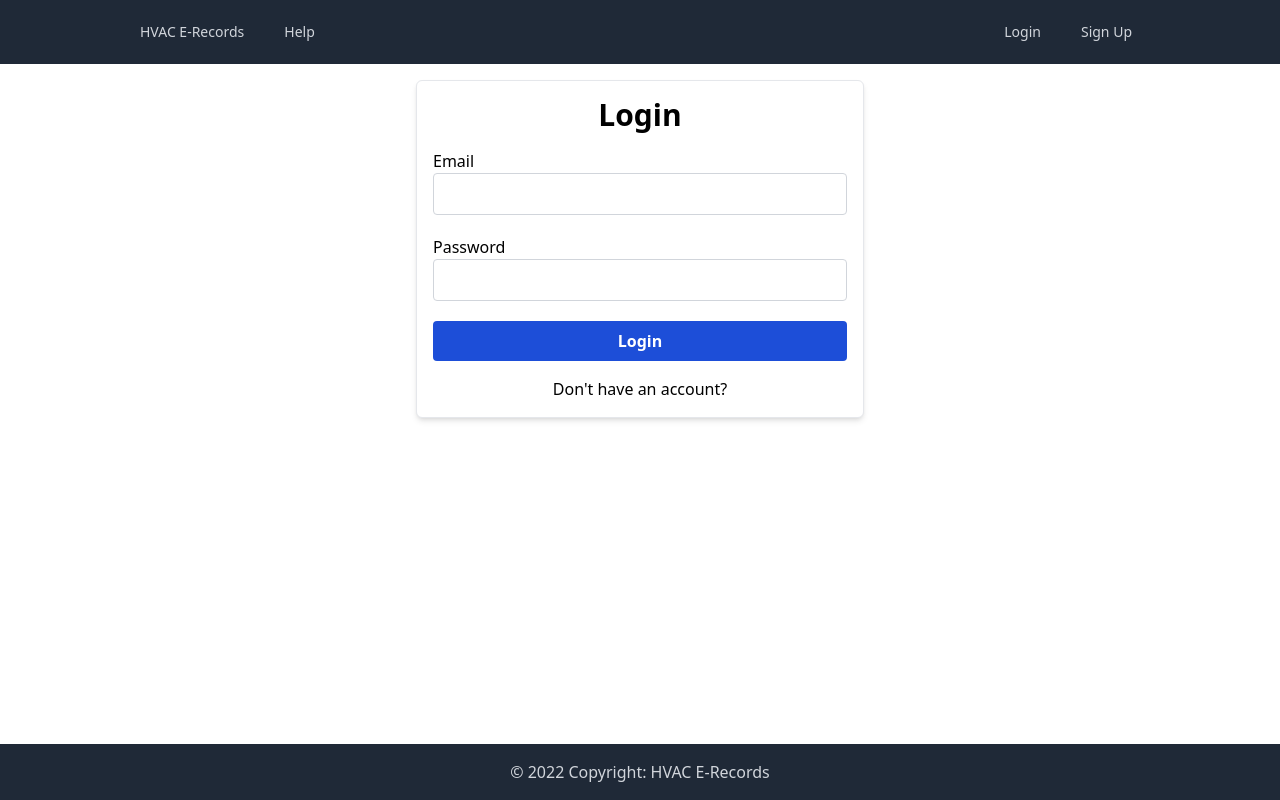
Test case: Task details page › should display the text task details
The width and height of the screenshot is (1280, 800).
In the field with id "email": coordinates (640, 194) [433, 173, 847, 215], type "test@test.com"
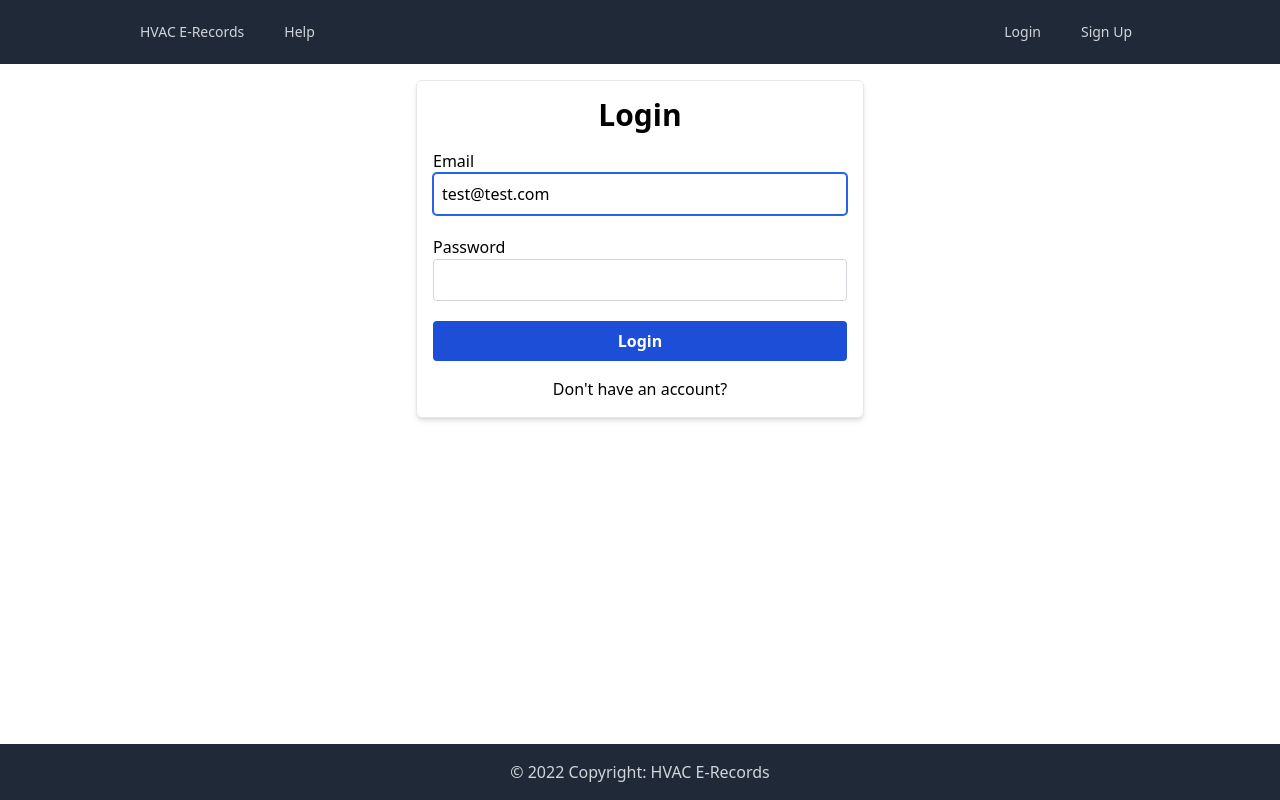
In the password field labelled "Password": coordinates (640, 280) [433, 259, 847, 301], type "Testing123!"
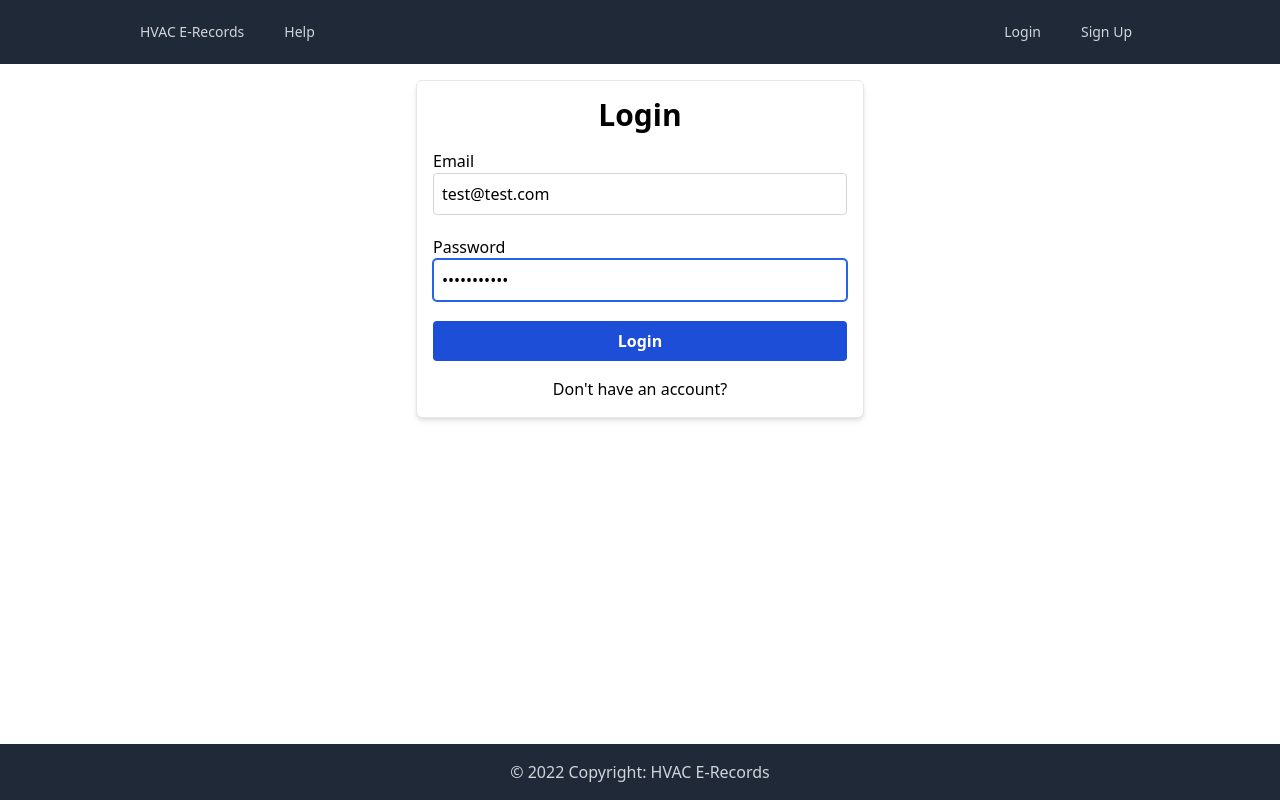
Click the button with id "login-button": coordinates (640, 341) [433, 321, 847, 361]
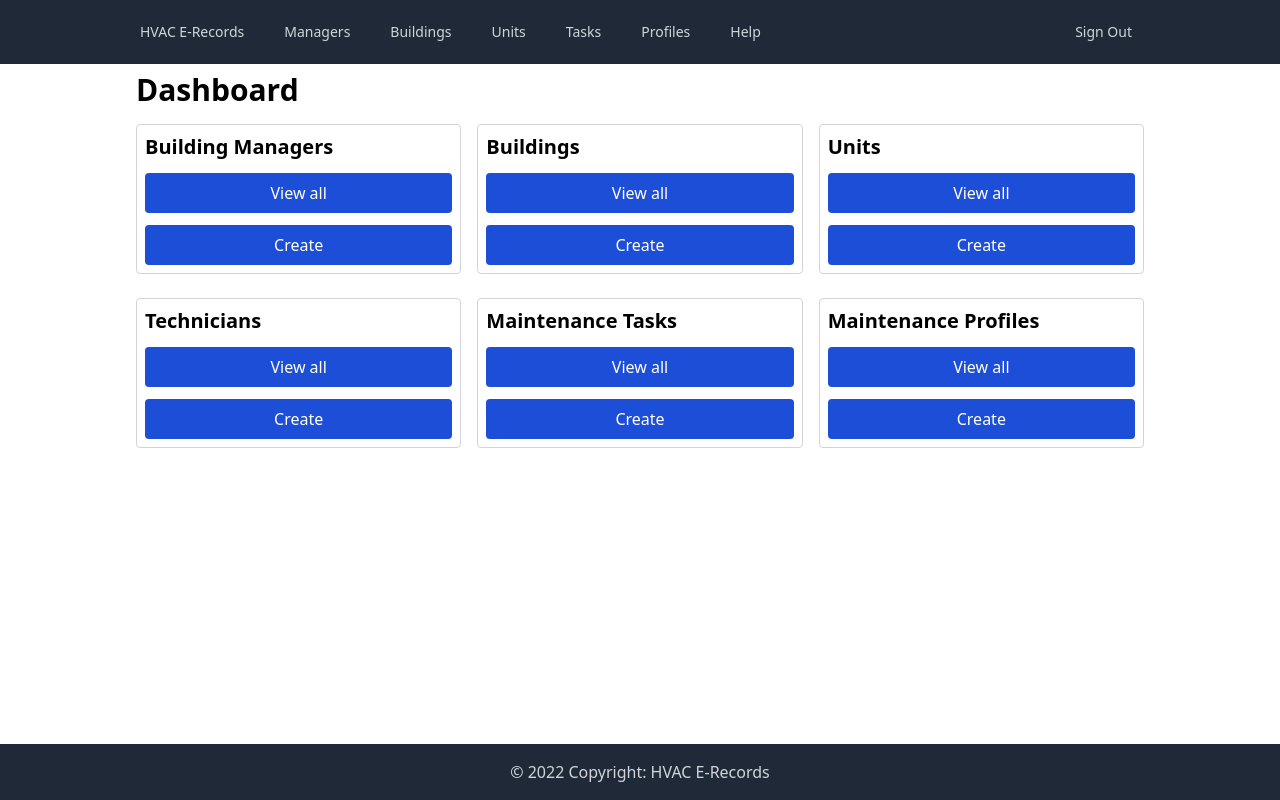
Open "http://localhost:3000/tasks/1"
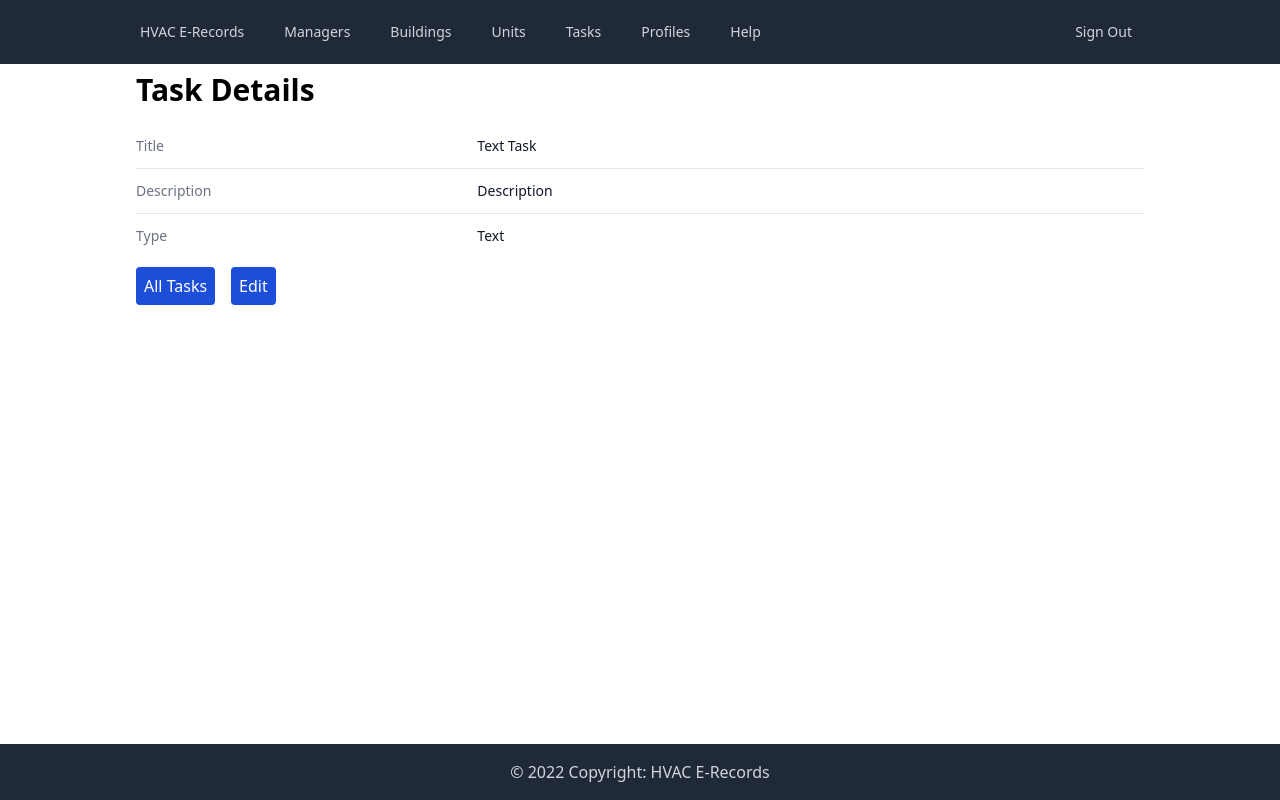
Check: the text with id "title" reads "Text Task", box [477, 136, 536, 155]
Check: the text with id "description" reads "Description", box [477, 181, 552, 200]
Check: the text with id "type" reads "Text", box [477, 226, 504, 245]
